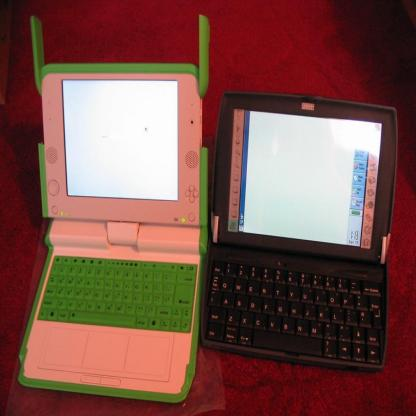board: (19, 16, 209, 402), (196, 87, 393, 384)
